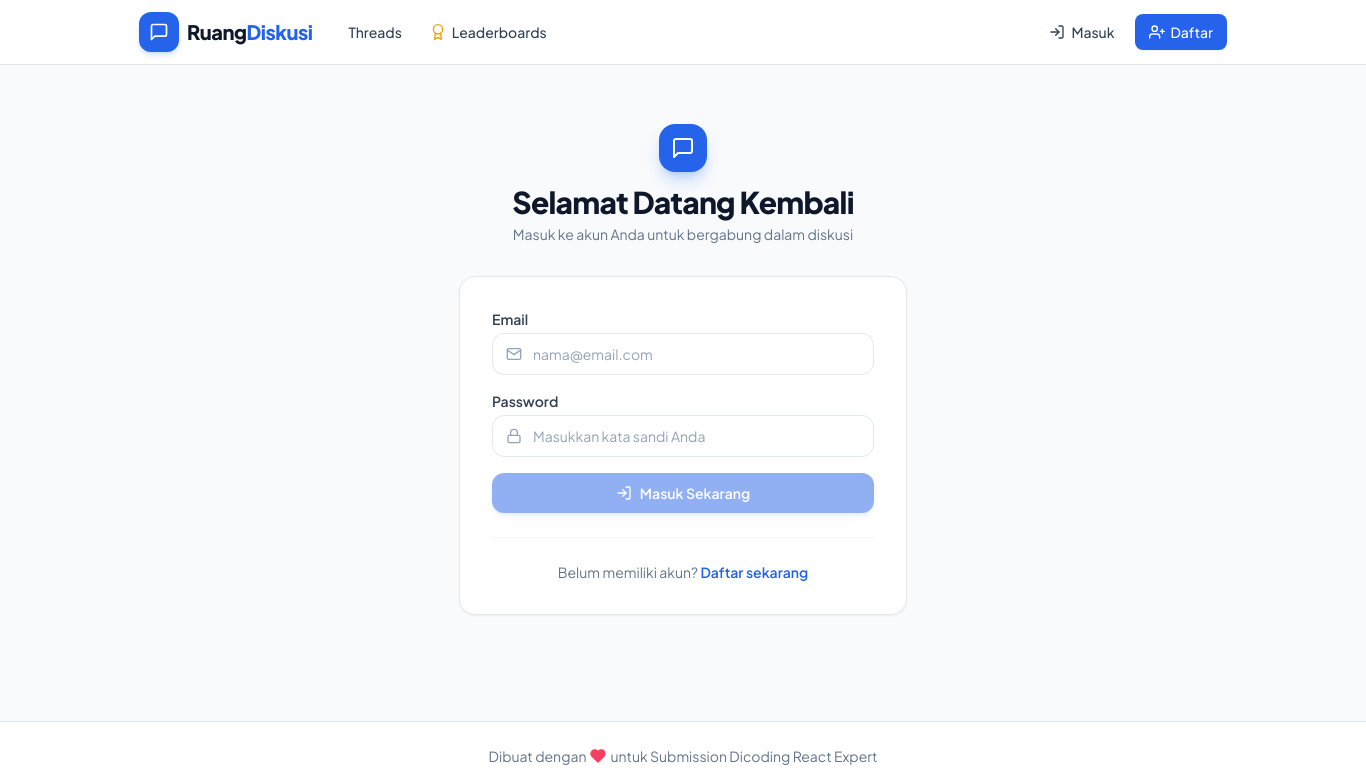
Scenario: Login spec › should display homepage and user profile when email and password are correct
The width and height of the screenshot is (1366, 768).
Type "tester@example.com" into the field with id "email".
click(683, 354); type("tester@example.com")  # box [492,333,874,375]
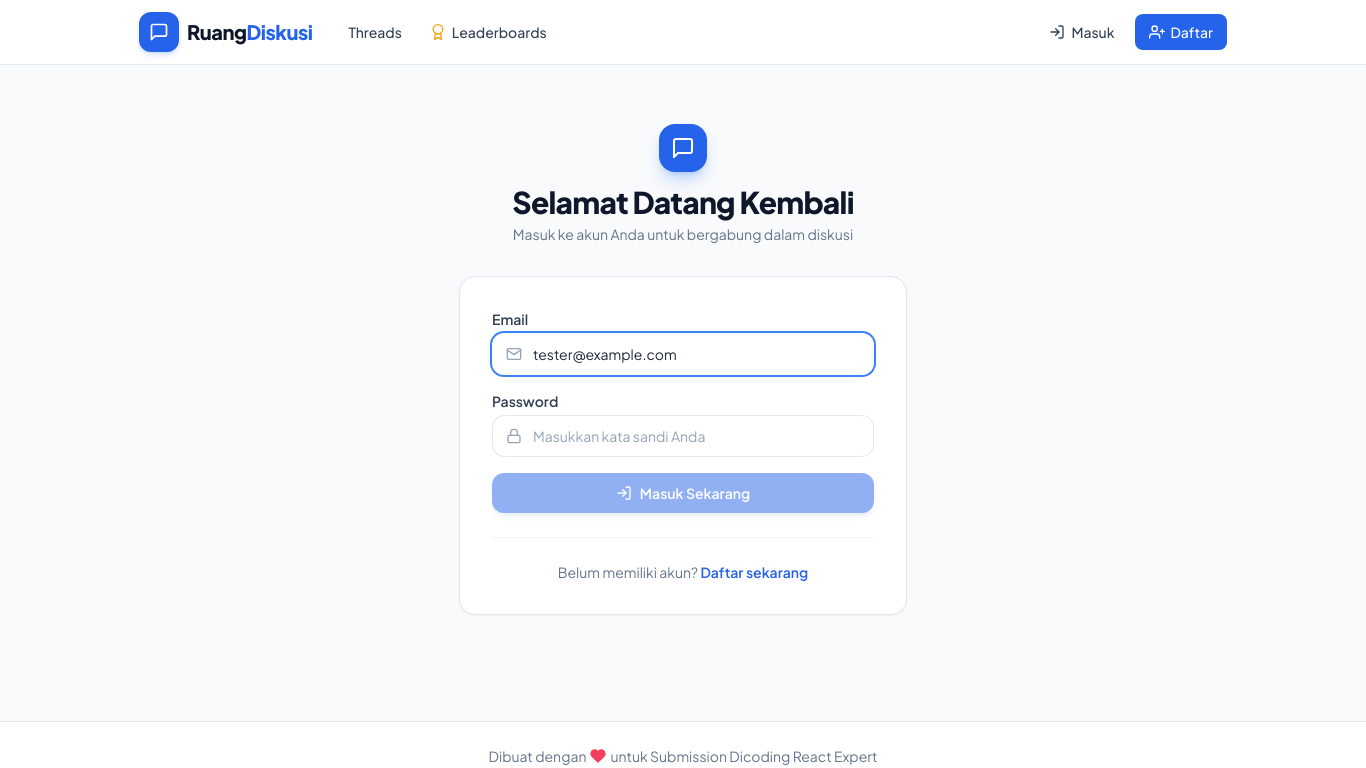
Type "secret123" into the password field labelled "Password".
click(683, 436); type("secret123")  # box [492,415,874,457]
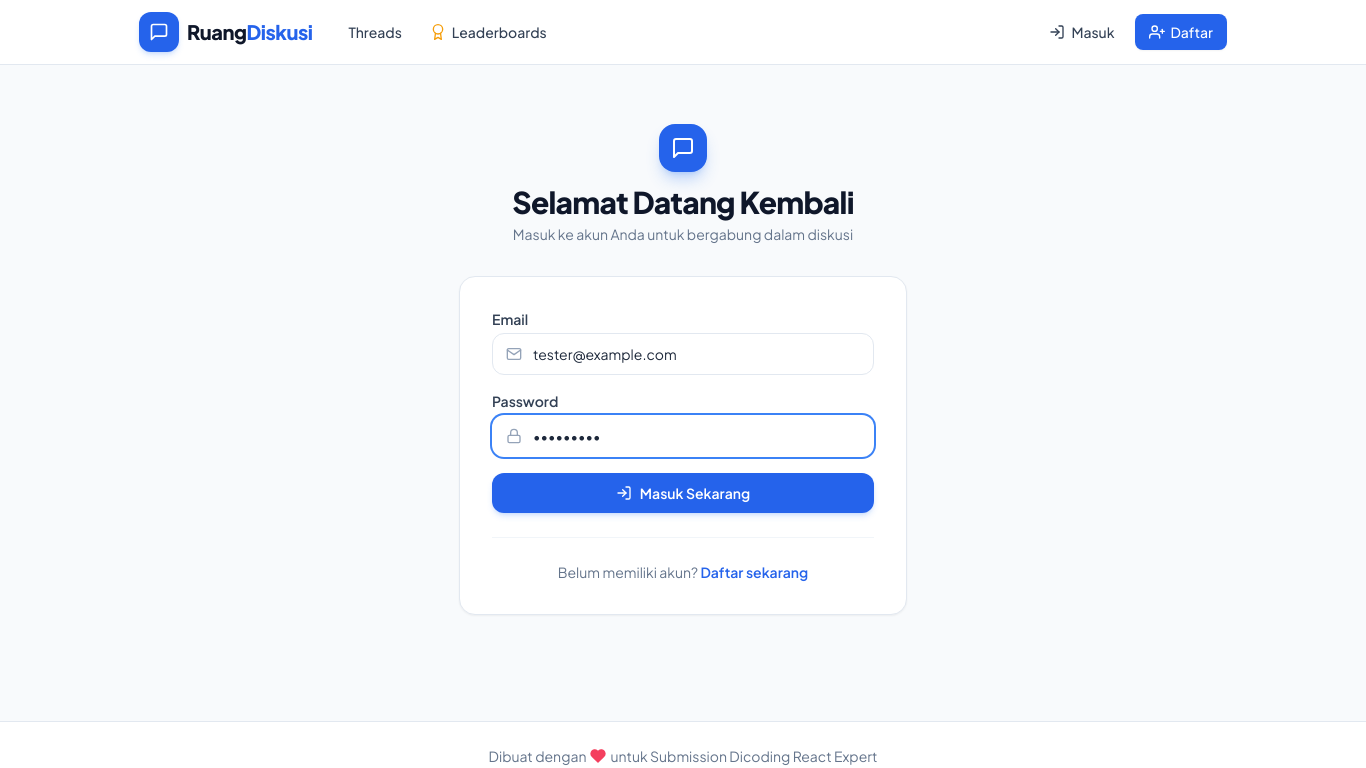
Click the submit button.
click(683, 493)  # box [492,473,874,513]
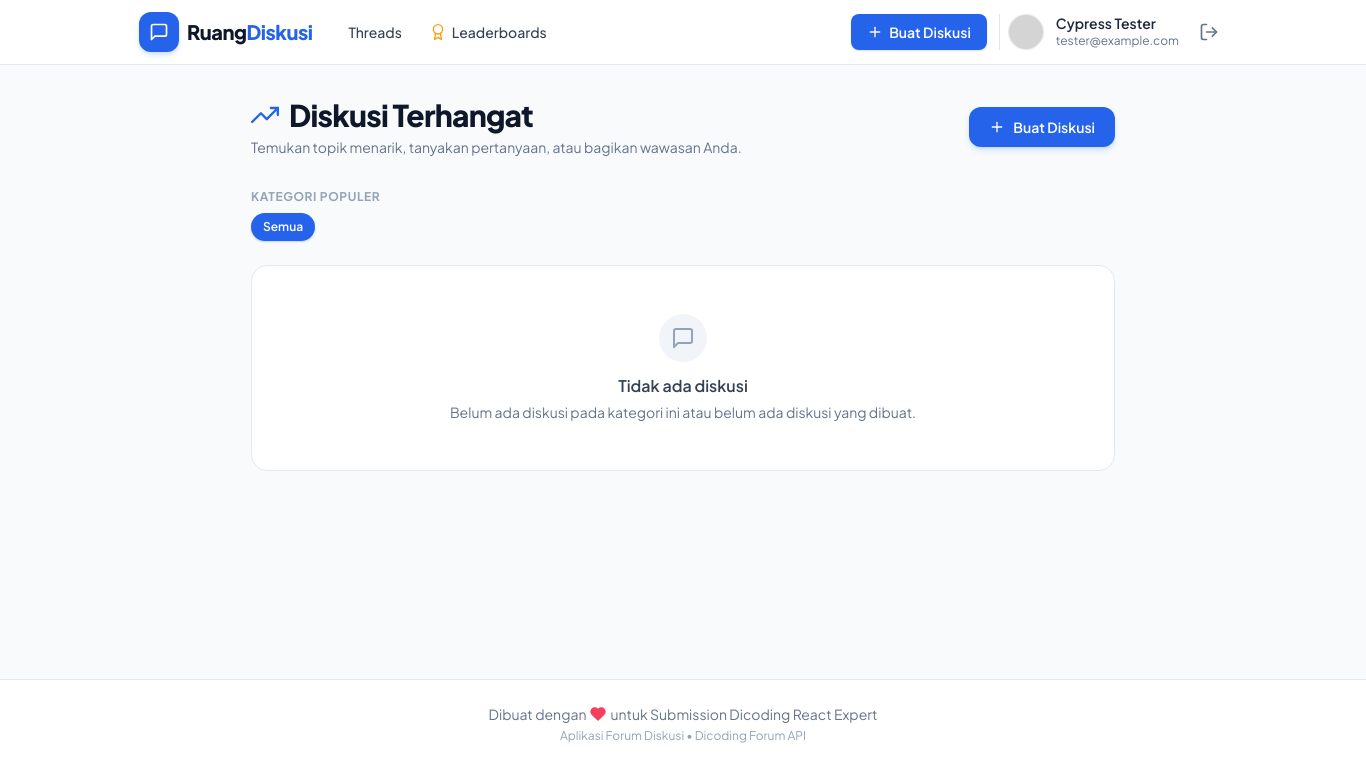
Expected: the header is shown, [0,0,1365,65]
Now the button titled "Keluar" is shown, box [1191,14,1227,50]
